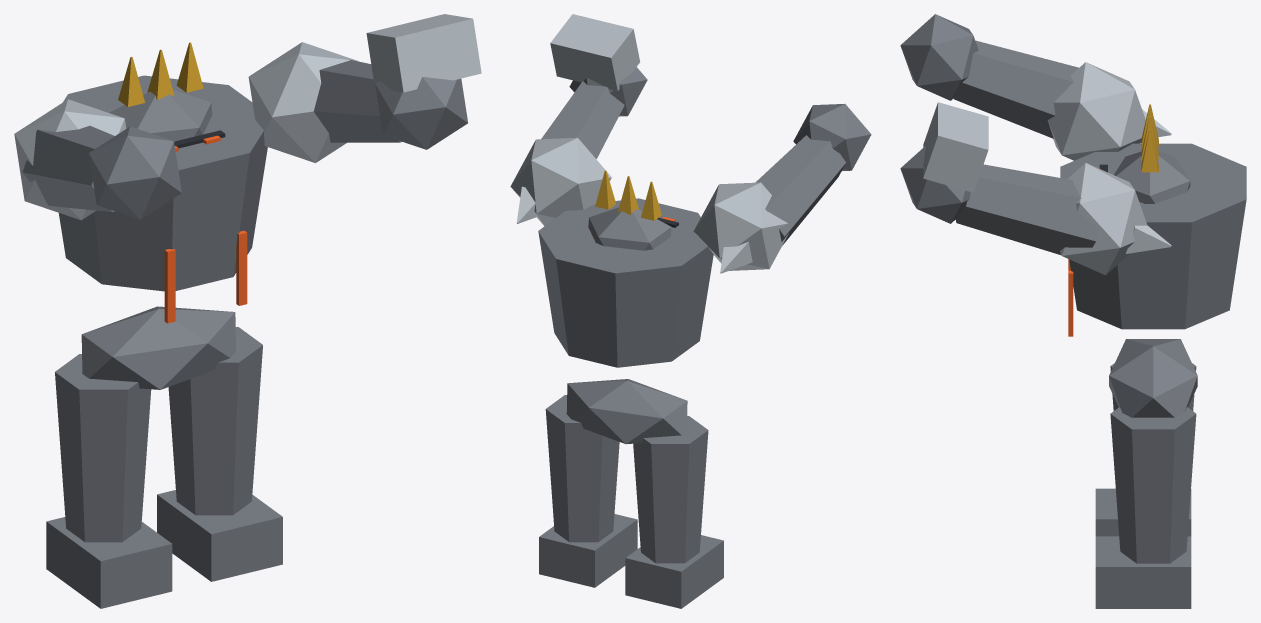
Rendered from npcpose_colossus_attack_00.glb.
3 views of the same model, side by side, from view 1: azimuth 30°, elevation 25°; view 2: azimuth 150°, elevation 25°; view 3: azimuth 270°, elevation 25° (orthographic). The views are drawn at different scales.
Parts seen in each view (by area): view 1: npcpose; view 2: npcpose; view 3: npcpose.
Boxes of the visible parts, left/top/right/bottom form: npcpose: left=14, top=14, right=481, bottom=608; npcpose: left=510, top=14, right=871, bottom=608; npcpose: left=900, top=14, right=1246, bottom=608.
Size of the model in its own units: 2.3 by 3.45 by 2.09.
